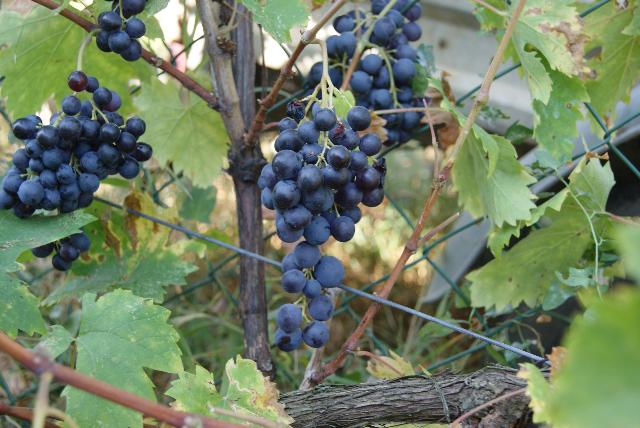grapes: (258, 88, 384, 351), (0, 71, 152, 219)
